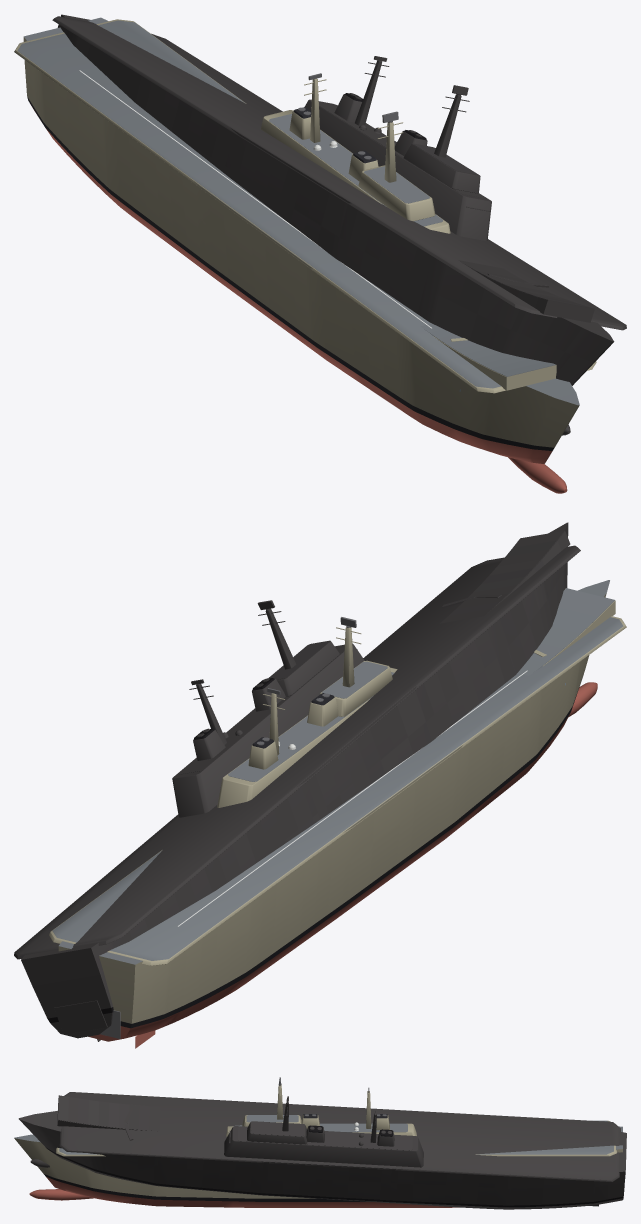
The model's file is landingShip__canberra_class.glb.
The picture shows the model from 3 angles, top to bottom: view 1: azimuth 30°, elevation 25°; view 2: azimuth 150°, elevation 25°; view 3: azimuth 270°, elevation 25°; orthographic projection. The views are drawn at different scales.
Visible parts, largest first — view 1: Hull_Mesh, Wreck; view 2: Hull_Mesh, Wreck; view 3: Wreck, Hull_Mesh.
Part boxes in pixels (x1,y1,x2,y2): Hull_Mesh: (14,17,596,493); Wreck: (52,14,626,435); Hull_Mesh: (49,580,626,1048); Wreck: (14,522,580,1041); Wreck: (18,1092,626,1209); Hull_Mesh: (14,1084,622,1207).
Size of what is drawn, in the model's own units: 48.88 by 59.17 by 242.
